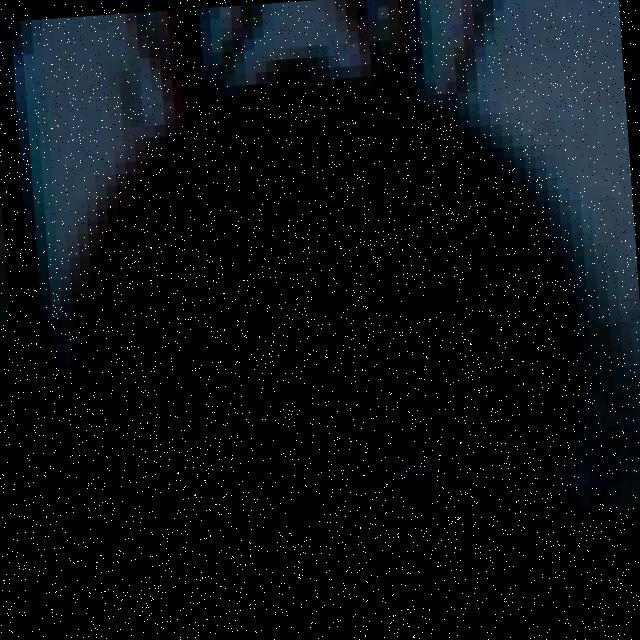Ograniczenie predkosci do 120: (56, 71, 596, 614)
